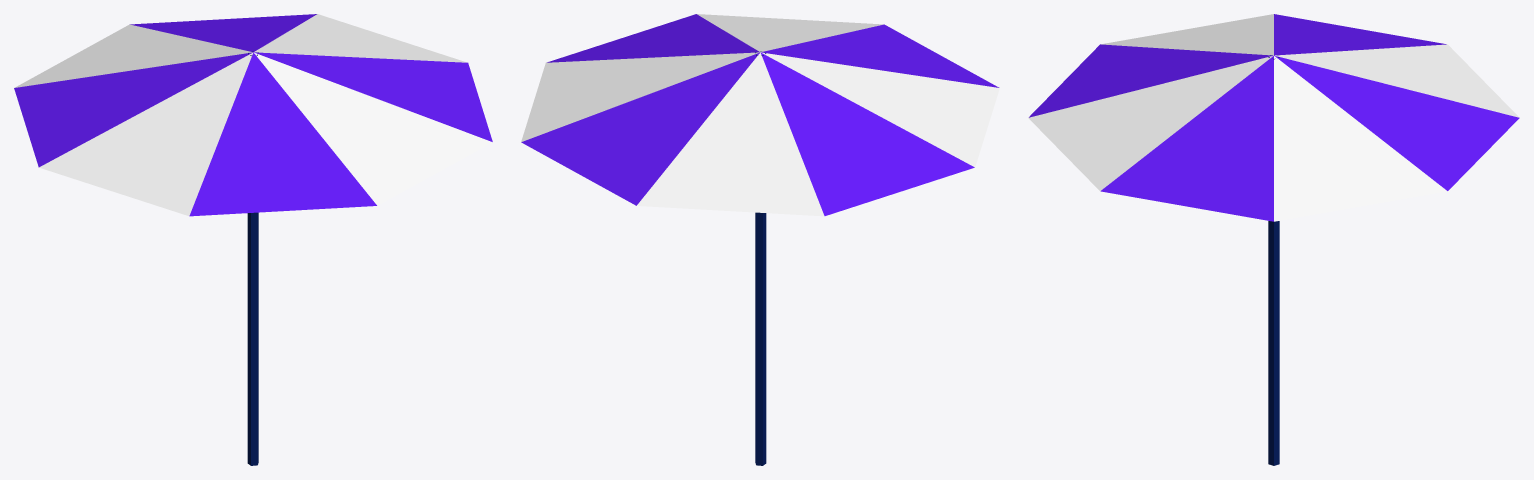
Rendered from paraplu 1.fbx.
3 views of the same model, side by side, from view 1: azimuth 30°, elevation 25°; view 2: azimuth 150°, elevation 25°; view 3: azimuth 270°, elevation 25° (orthographic).
Parts seen in each view (by area): view 1: Cone_1, Cylinder; view 2: Cone_1, Cylinder; view 3: Cone_1, Cylinder.
Boxes of the visible parts, <box> form: Cone_1: <box>14,14,492,216</box>; Cylinder: <box>247,51,258,465</box>; Cone_1: <box>521,14,999,216</box>; Cylinder: <box>755,51,766,465</box>; Cone_1: <box>1028,14,1519,221</box>; Cylinder: <box>1268,55,1279,465</box>.
Bounding box in the file's own units: 200 × 183 × 200.
